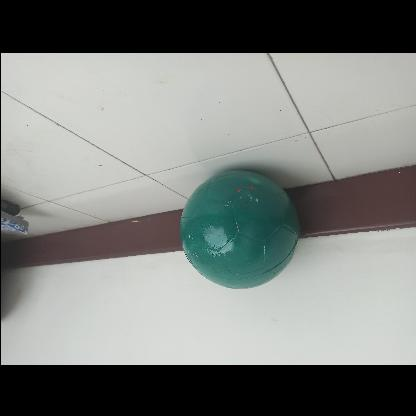green_ball: (178, 170, 301, 292)
